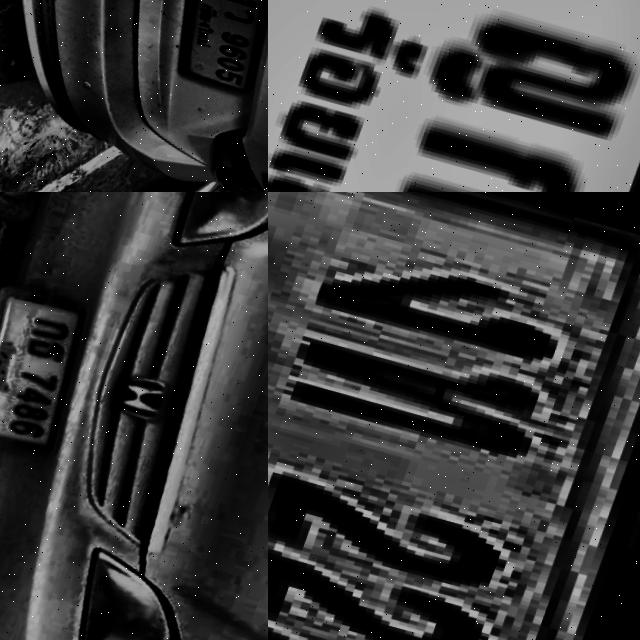license-plate: (268, 192, 640, 640), (268, 0, 640, 192), (0, 275, 115, 467), (154, 0, 268, 99)
